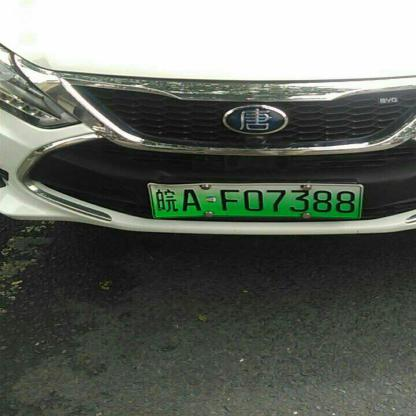lp: (149, 185, 359, 217)
